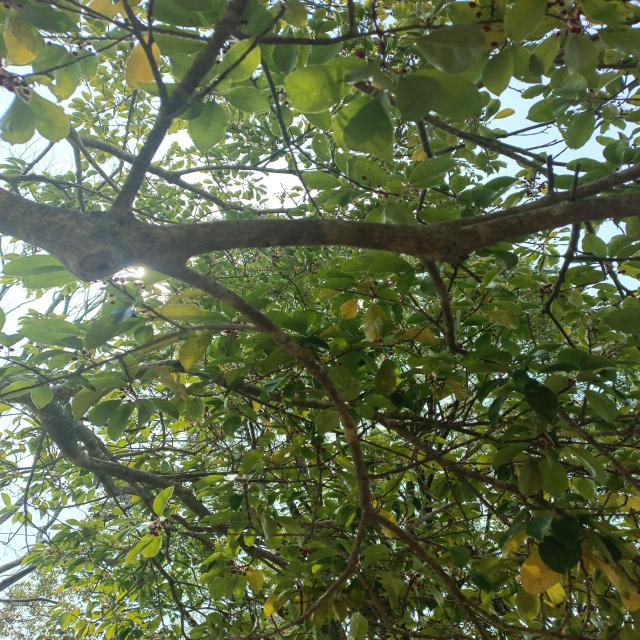Twig: (158, 262, 369, 622), (104, 0, 257, 221)
